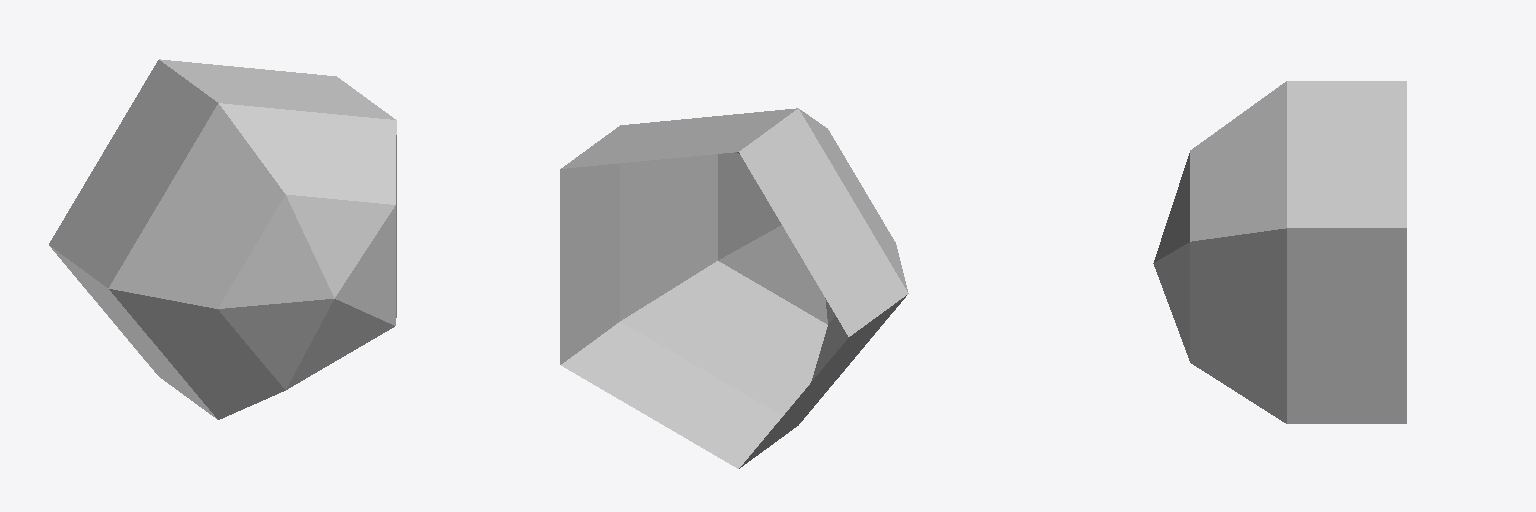
Rendered from floorScrap3.obj.
3 renders of one model, left to right at view 1: azimuth 30°, elevation 25°; view 2: azimuth 150°, elevation 25°; view 3: azimuth 270°, elevation 25°, orthographic.
Visible parts, largest first — view 1: Object.1; view 2: Object.1; view 3: Object.1.
Boxes of the visible parts, x1,y1,x2,y2 form: Object.1: [49, 59, 396, 419]; Object.1: [560, 108, 908, 468]; Object.1: [1153, 81, 1406, 423].
Bounding box in the file's own units: 43.7 × 45.95 × 33.25.